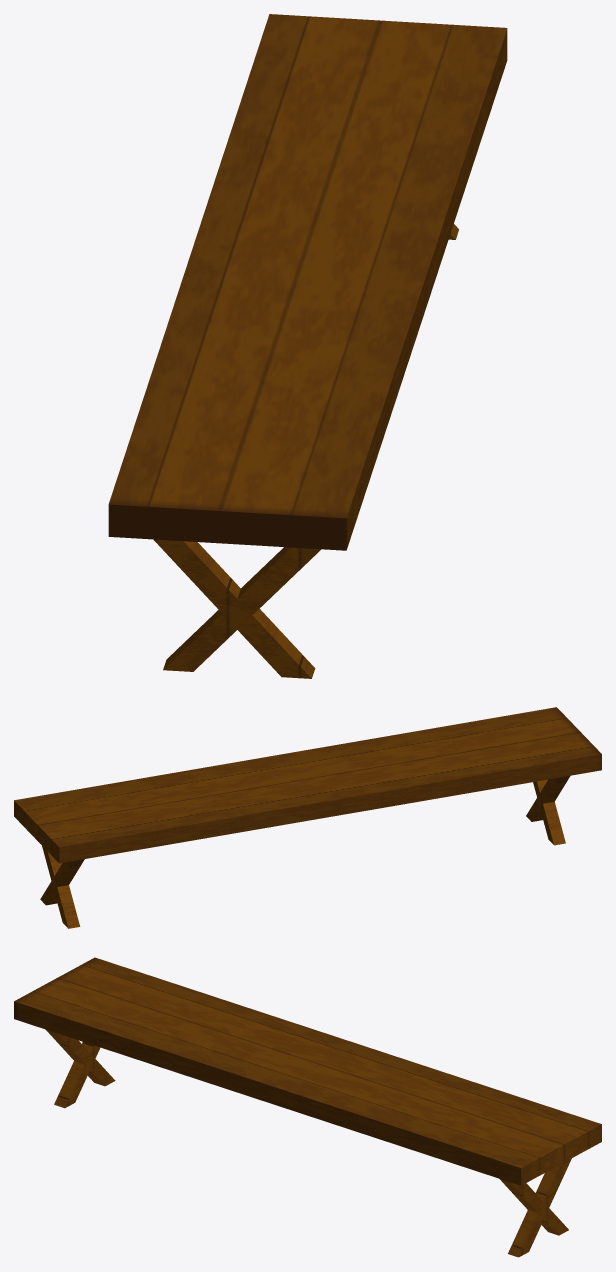
Rendered from sumaKlupa.fbx.
3 views of the same model, one above another, from view 1: azimuth 30°, elevation 25°; view 2: azimuth 150°, elevation 25°; view 3: azimuth 270°, elevation 25° (orthographic). The views are drawn at different scales.
Parts seen in each view (by area): view 1: sumaklupa; view 2: sumaklupa; view 3: sumaklupa.
Part boxes in pixels (x1=…): sumaklupa: x1=108, y1=14, x2=507, y2=678; sumaklupa: x1=14, y1=707, x2=601, y2=928; sumaklupa: x1=14, y1=957, x2=601, y2=1257.
Bounding box in the file's own units: 161 × 36.75 × 190.
1 material, 1 textured.
